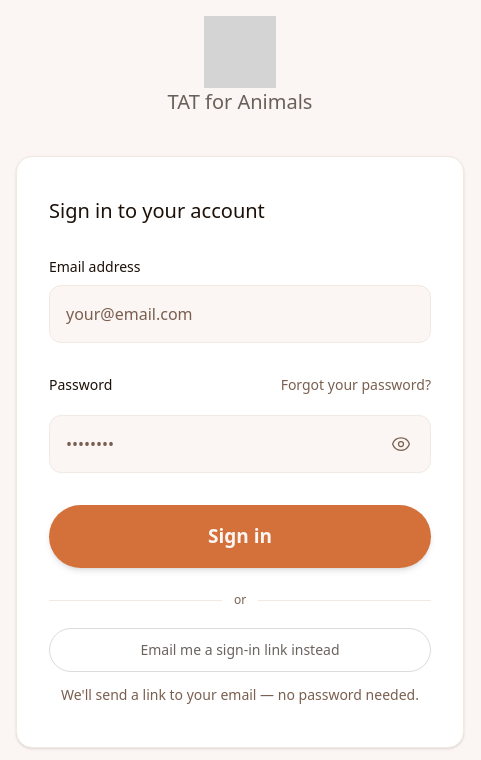
Test: LoginClient — login error › shows a friendly message on incorrect credentials
Type "wrong@email.com" into the field labelled "Email address". click: (240, 314)
box: left=49, top=285, right=431, bottom=343
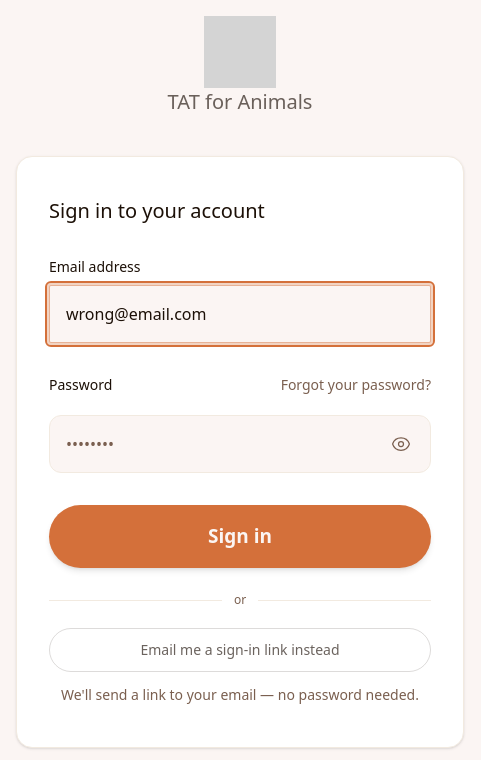
Type "wrongpass" into the password field labelled "Password". click: (240, 444)
box: left=49, top=415, right=431, bottom=473
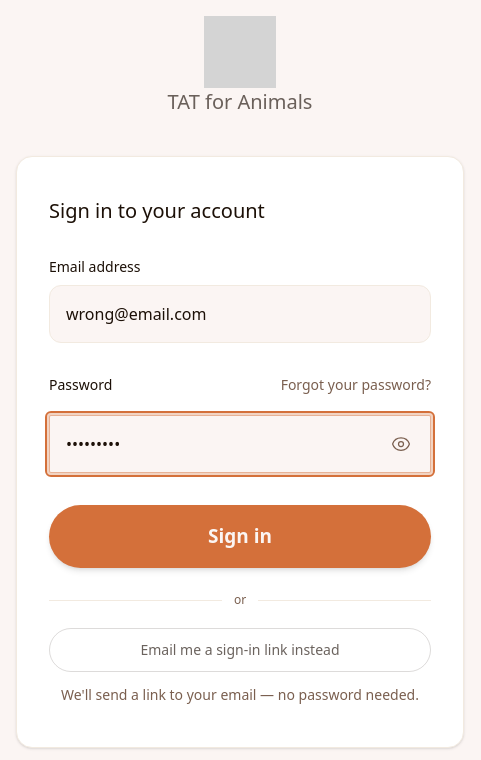
Click the button "Sign in". click: click(240, 537)
box: left=49, top=505, right=431, bottom=568
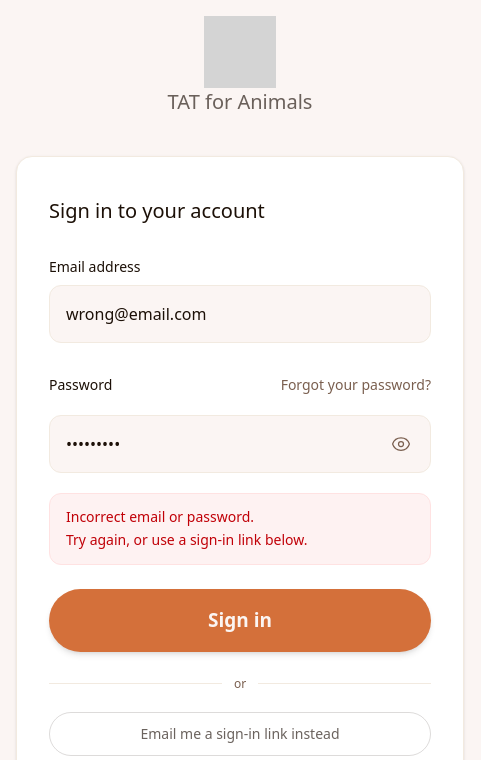
Expected: the text "Incorrect email or password" is shown, left=66, top=507, right=307, bottom=549
